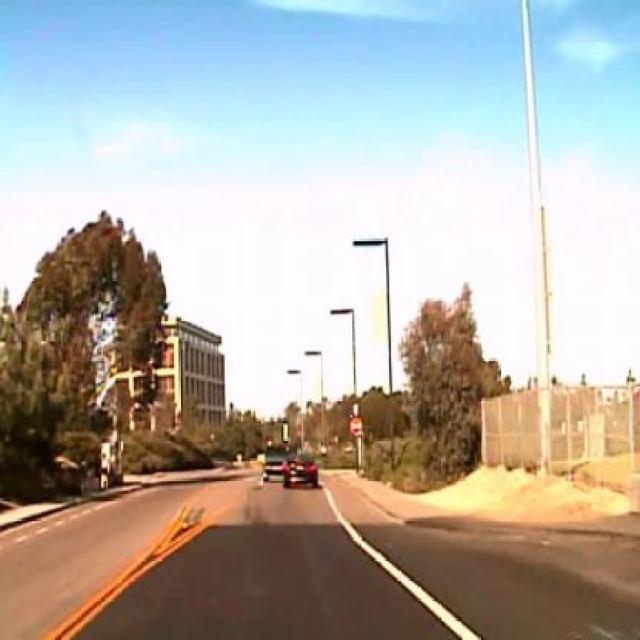stop: (351, 416, 362, 434)
